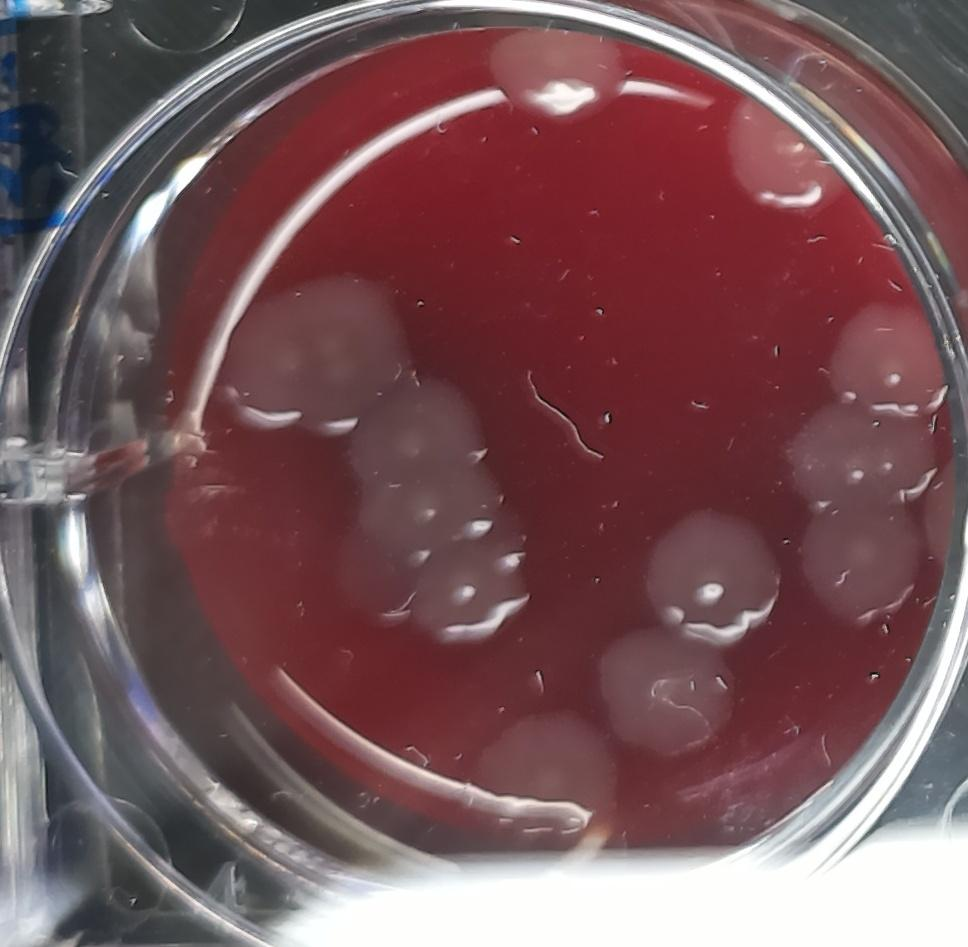vproteolyticus: (350, 379, 539, 649), (215, 275, 407, 435), (460, 700, 618, 845), (636, 504, 785, 646), (593, 628, 740, 757), (795, 497, 930, 633), (723, 88, 852, 216), (783, 403, 934, 508), (833, 292, 953, 420), (488, 22, 630, 127)
